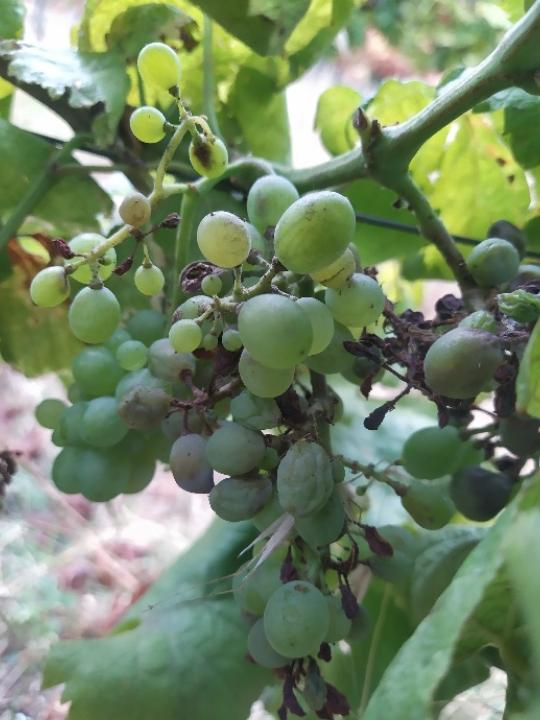grape: (38, 178, 394, 720)
